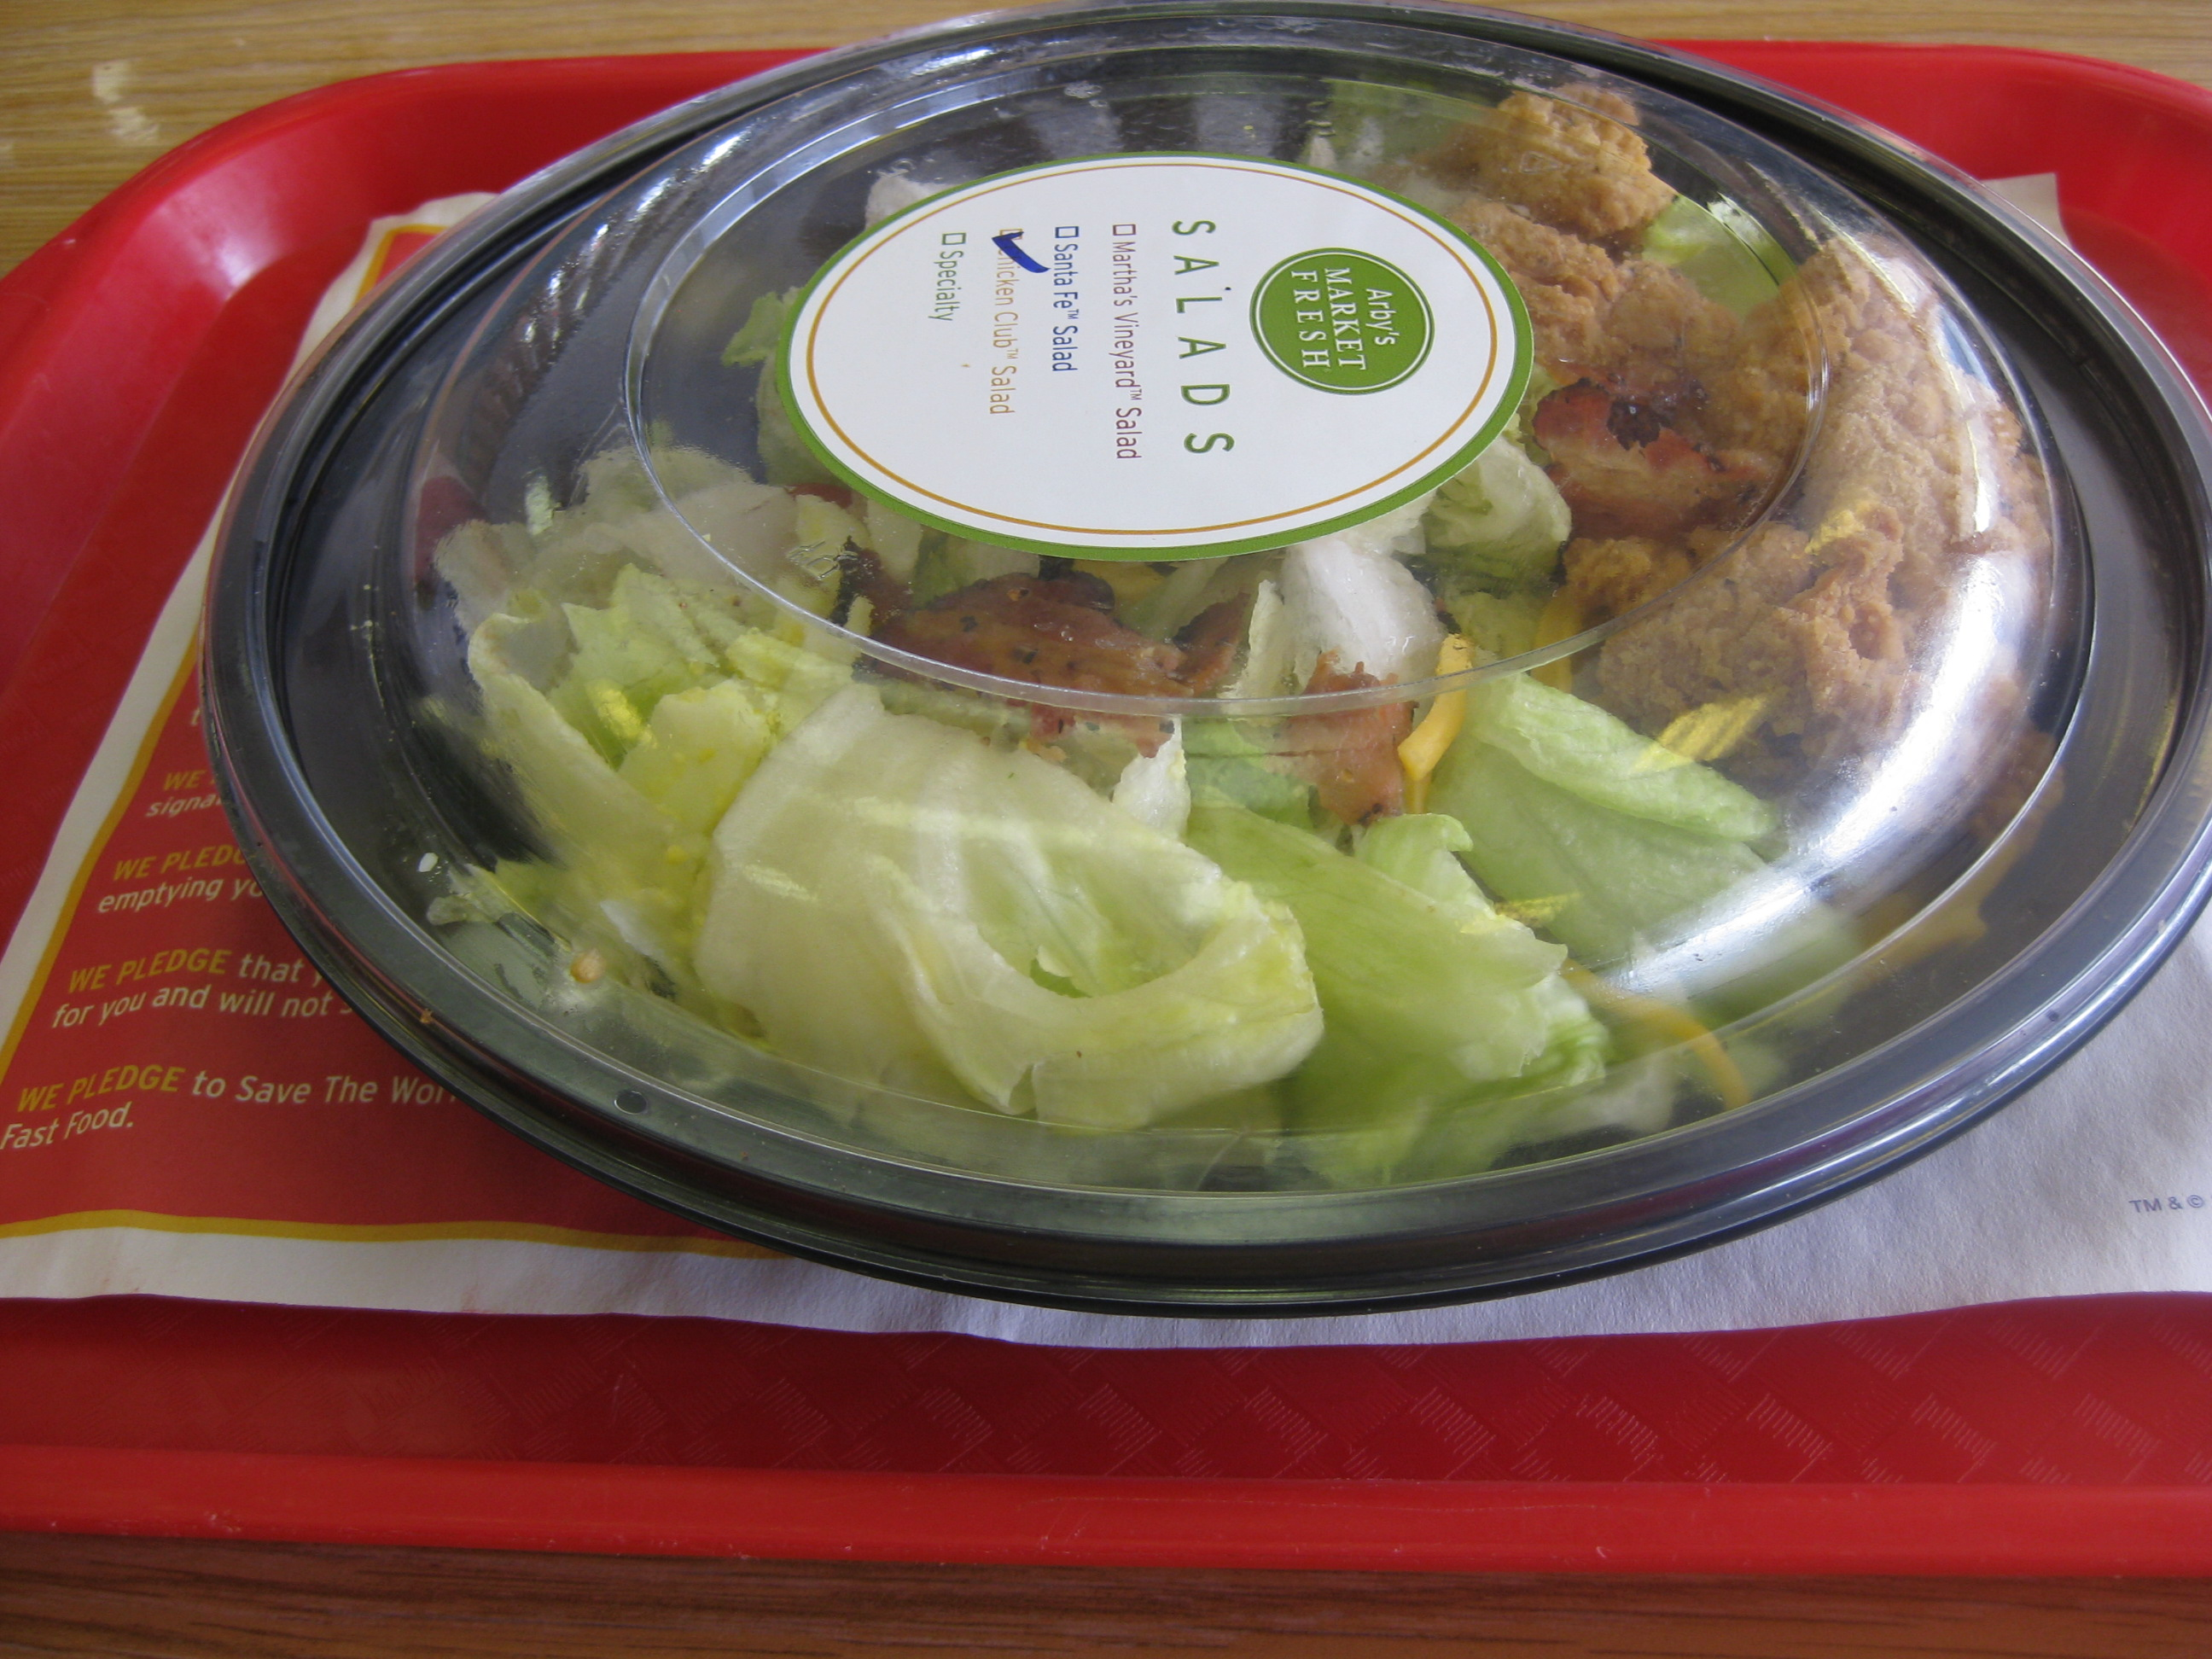salad: (234, 10, 2209, 1322)
